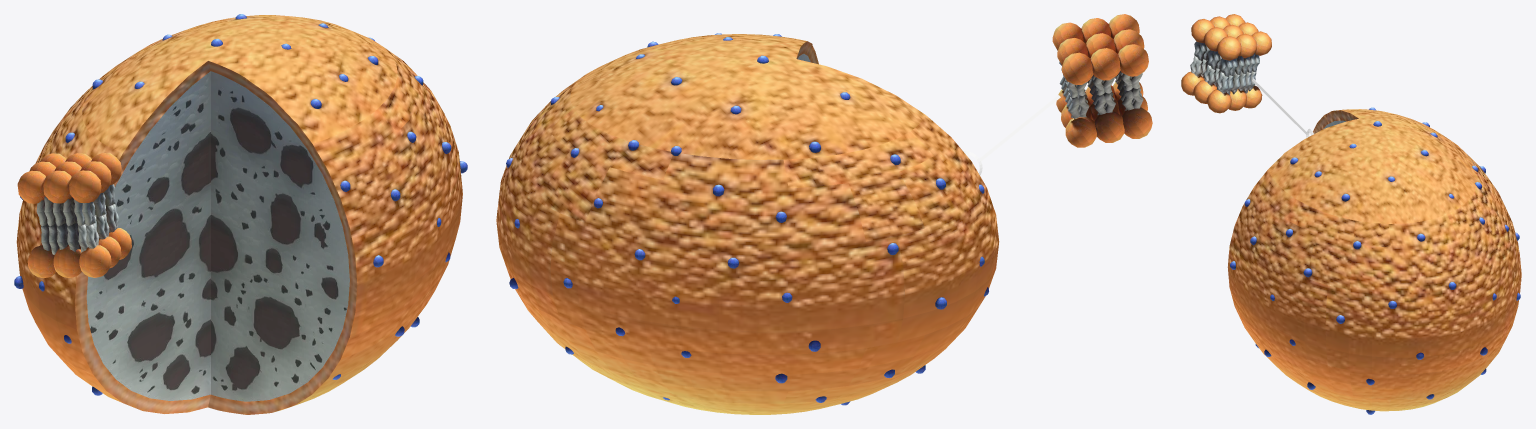
The model's file is modelo.glb.
3 views of the same model, side by side, from view 1: azimuth 30°, elevation 25°; view 2: azimuth 150°, elevation 25°; view 3: azimuth 270°, elevation 25° (orthographic). The views are drawn at different scales.
Parts seen in each view (by area): view 1: Object_6, Object_7, Object_10, Object_9, Object_8; view 2: Object_6, Object_10, Object_8, Object_9; view 3: Object_6, Object_10, Object_9, Object_8.
Boxes of the visible parts, <box> form: Object_6: <box>16,15,462,414</box>; Object_7: <box>86,71,349,401</box>; Object_10: <box>17,153,131,278</box>; Object_9: <box>36,184,118,254</box>; Object_8: <box>14,14,467,395</box>; Object_6: <box>496,34,999,414</box>; Object_10: <box>1052,14,1152,147</box>; Object_8: <box>506,33,988,405</box>; Object_9: <box>1059,62,1143,118</box>; Object_6: <box>1227,109,1521,411</box>; Object_10: <box>1181,14,1271,113</box>; Object_9: <box>1190,41,1259,94</box>; Object_8: <box>1230,107,1520,414</box>.
Size of the model in its own units: 2.35 by 1.57 by 1.77.
6 materials, 5 textured.
